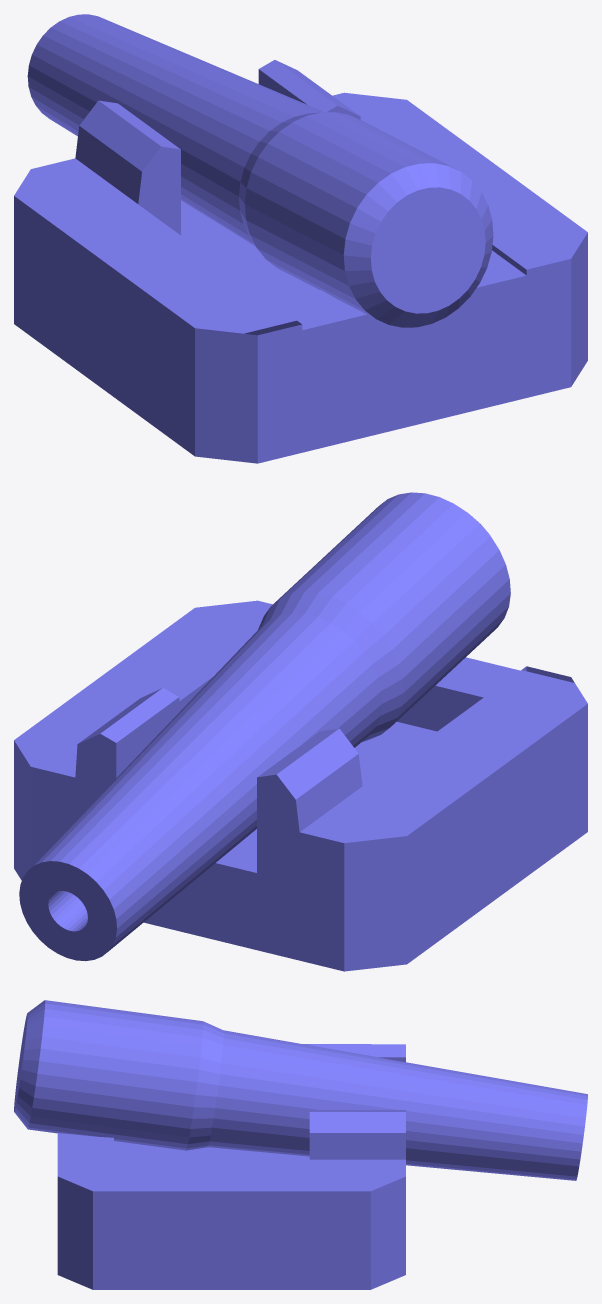
Rendered from cannon.obj.
3 renders of one model, top to bottom at view 1: azimuth 30°, elevation 25°; view 2: azimuth 150°, elevation 25°; view 3: azimuth 270°, elevation 25°, orthographic. The views are drawn at different scales.
Parts seen in each view (by area): view 1: Cube.001_Cube.002; view 2: Cube.001_Cube.002; view 3: Cube.001_Cube.002.
Part boxes in pixels (box(x1,y1,x2,y2)): Cube.001_Cube.002: box(14, 14, 587, 463); Cube.001_Cube.002: box(14, 492, 587, 971); Cube.001_Cube.002: box(14, 1000, 587, 1289).
Size of the model in its own units: 0.8 by 0.5222 by 1.32.
